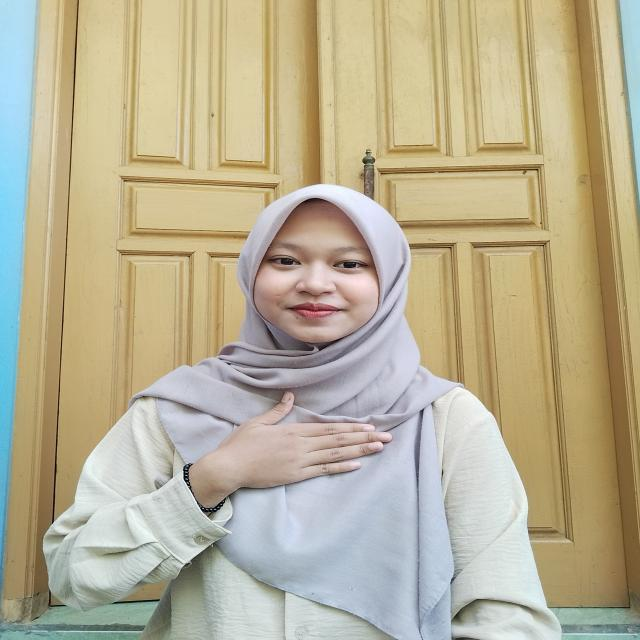tolong: (140, 385, 406, 519)
